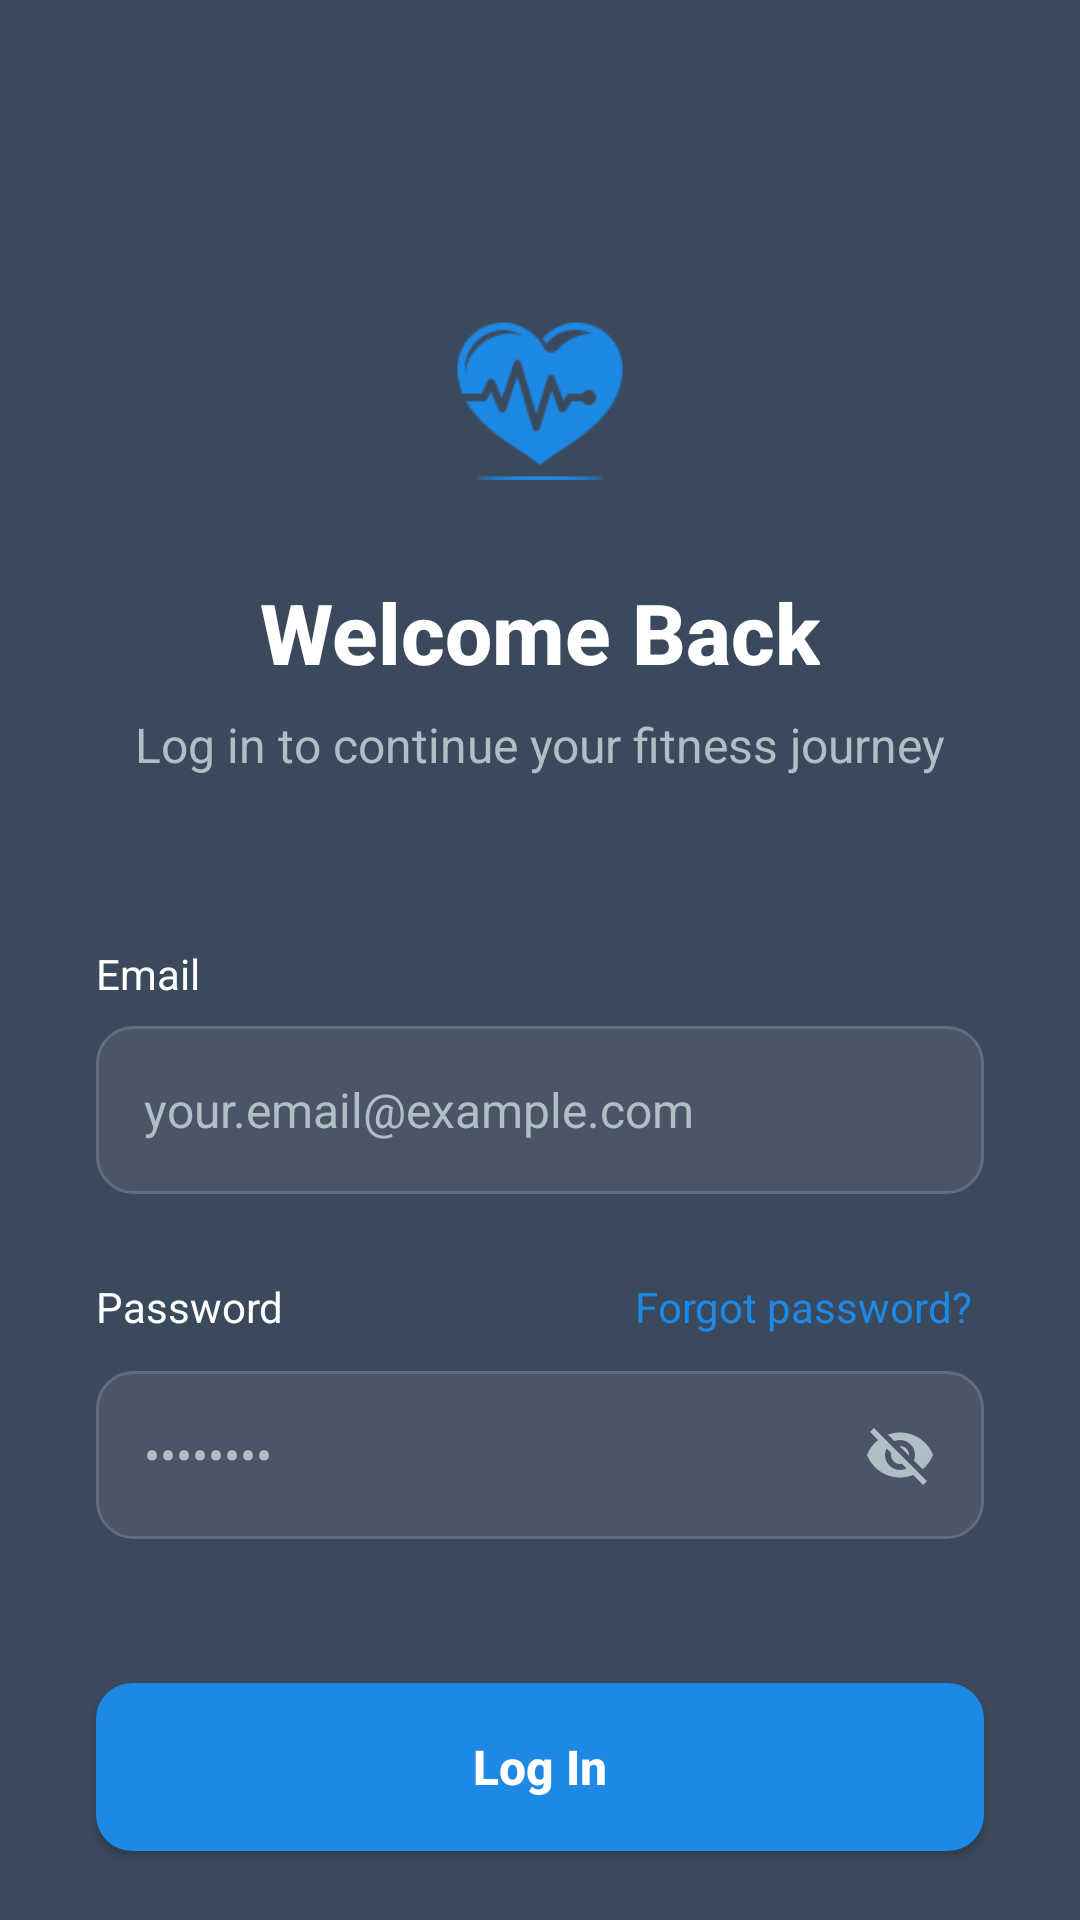

Icons on this 1080 x 1920 Android screen, each with the point to tap as [x,y]:
Toggle Password Visibility: [900,1456]
